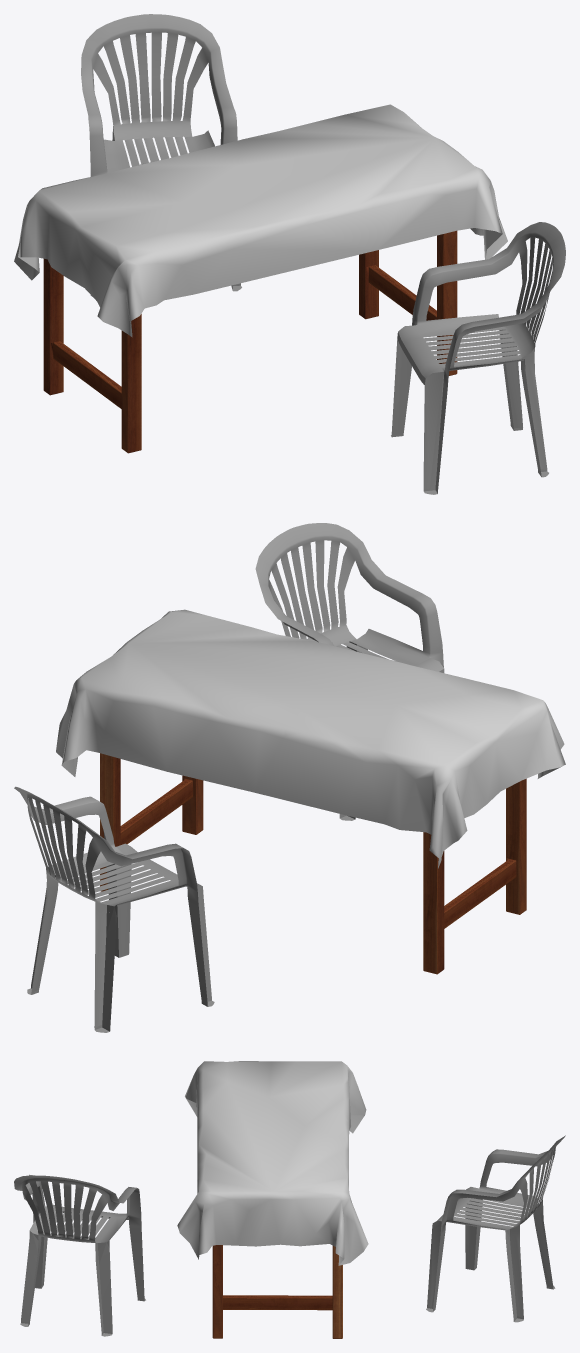
Rendered from Table_Triage.FBX.
3 views of the same model, one above another, from view 1: azimuth 30°, elevation 25°; view 2: azimuth 150°, elevation 25°; view 3: azimuth 270°, elevation 25° (orthographic). The views are drawn at different scales.
Visible parts, largest first — view 1: TriageTable; view 2: TriageTable; view 3: TriageTable.
Boxes of the visible parts, x1,y1,x2,y2 form: TriageTable: [14, 14, 565, 494]; TriageTable: [14, 523, 565, 1032]; TriageTable: [14, 1061, 565, 1338].
Size of the model in its own units: 201 by 102 by 313.
